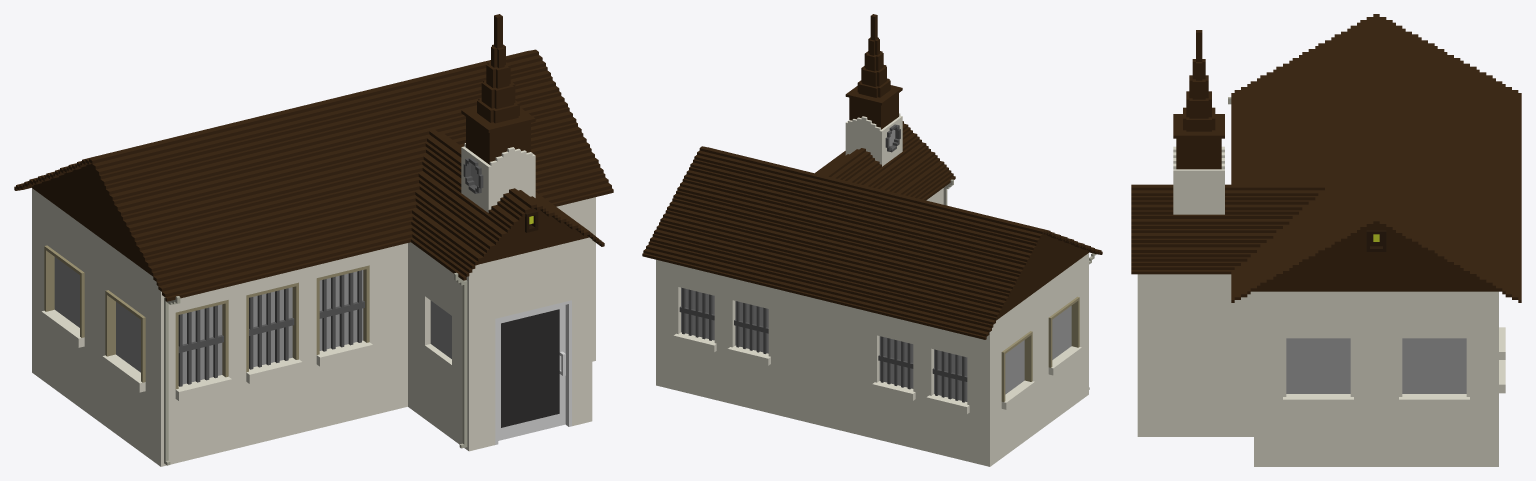
The model's file is church.obj.
3 renders of one model, left to right at view 1: azimuth 30°, elevation 25°; view 2: azimuth 150°, elevation 25°; view 3: azimuth 270°, elevation 25°, orthographic. The views are drawn at different scales.
Bounding box in the file's own units: 15.2 × 12.9 × 12.1.
Materials: 1 (1 with a texture image).
